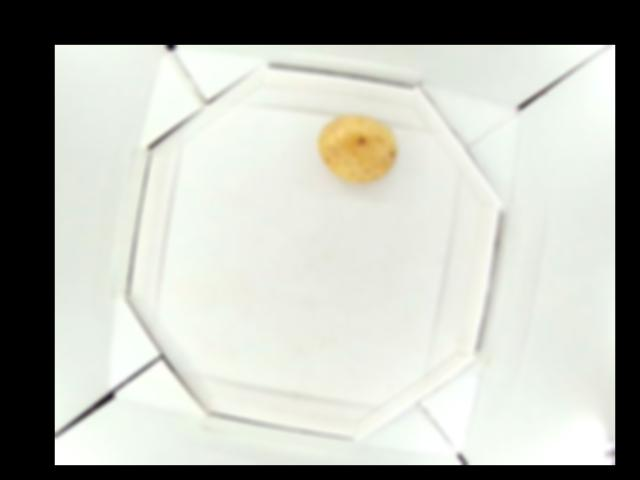Potato: (321, 113, 395, 178)
